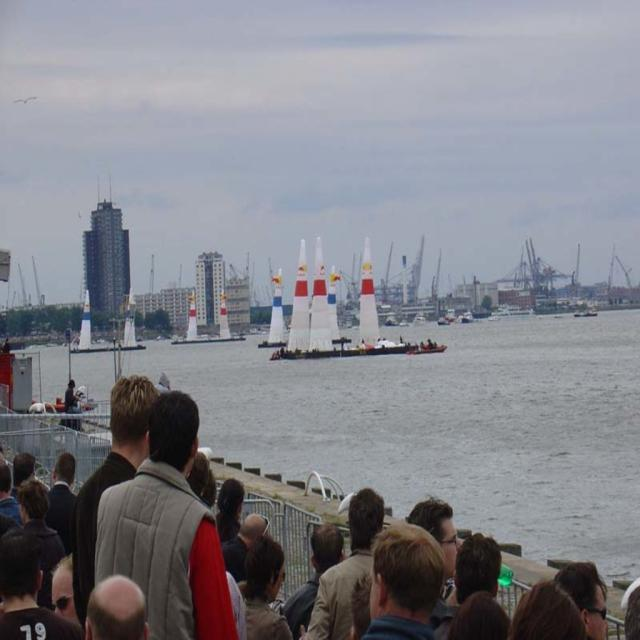Boat: (345, 241, 412, 354), (168, 282, 246, 348), (298, 238, 338, 359), (271, 234, 307, 364), (70, 291, 111, 356), (256, 266, 284, 348), (111, 290, 144, 351), (327, 264, 349, 346), (399, 342, 443, 352), (578, 305, 599, 316), (436, 317, 450, 325), (458, 318, 473, 321), (388, 320, 395, 326)
